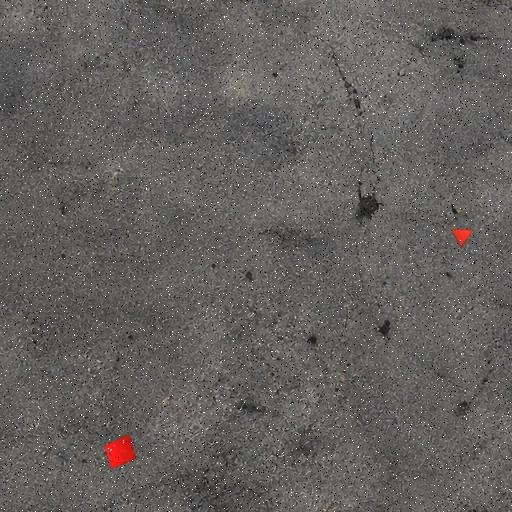RED_SQUARE: (103, 433, 137, 470)
